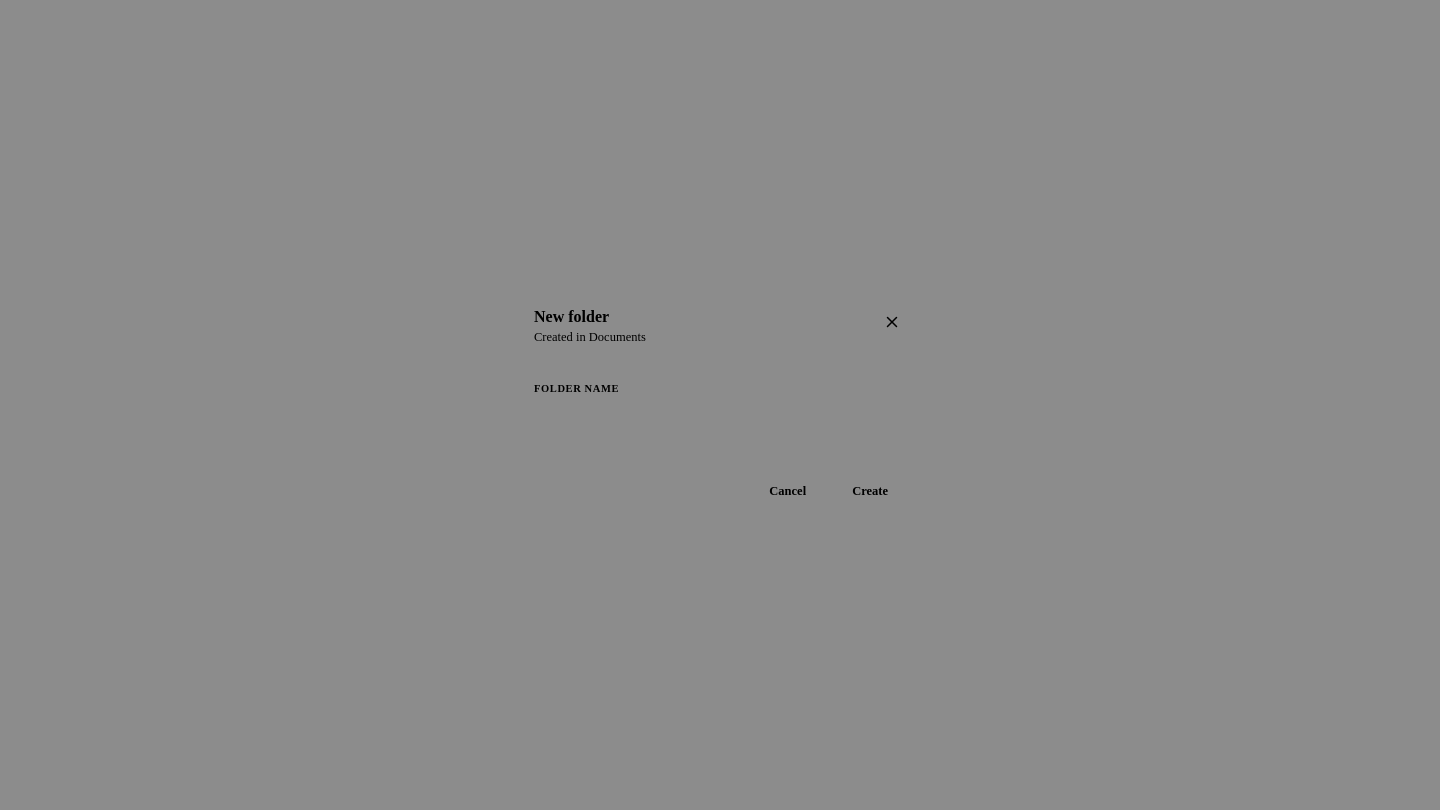
Scenario: PromptModal › focuses the input and rejects an empty name
Click the button "Create".
click(870, 492)  # box [834,475,906,508]
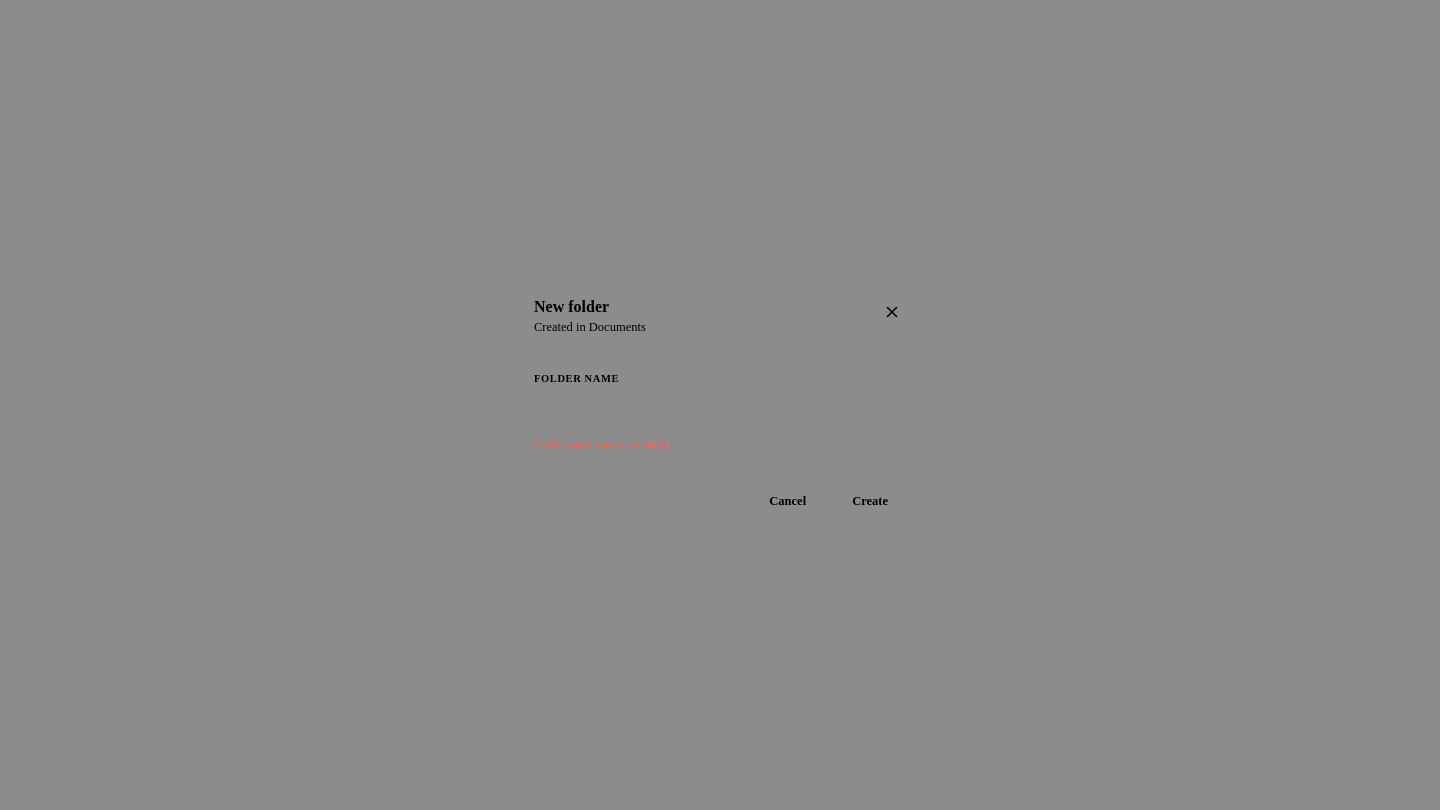
expect the text "Folder name cannot be empty" is shown: met, box [534,437,671,449]
